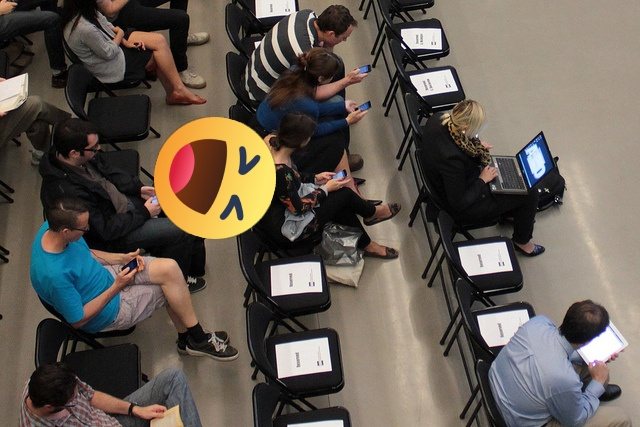haha: (154, 117, 276, 239)
